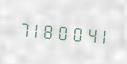eight: (43, 18, 55, 43)
four: (82, 21, 94, 46)
one: (30, 17, 42, 42), (95, 22, 107, 47)
seven: (17, 16, 29, 40)
zero: (56, 19, 68, 44), (69, 20, 81, 45)
